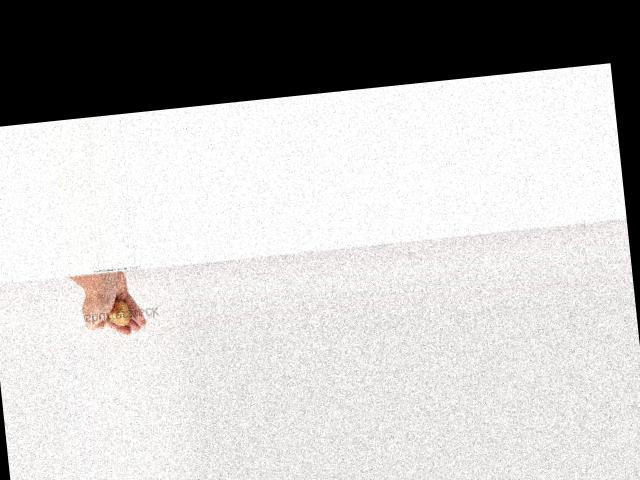egg: (108, 299, 131, 326)
